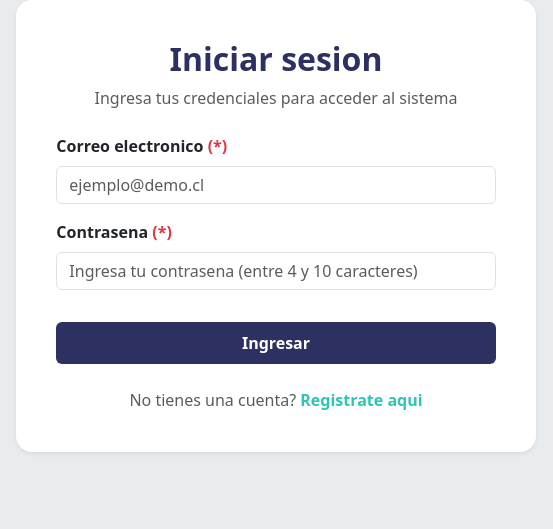
Test case: Prueba 13: Validacion de Login › rechaza una contrasena incorrecta
The image size is (553, 529).
Type "user@demo.cl" into the field with placeholder "ejemplo@demo.cl" at (276, 185), box [56,166,496,204]
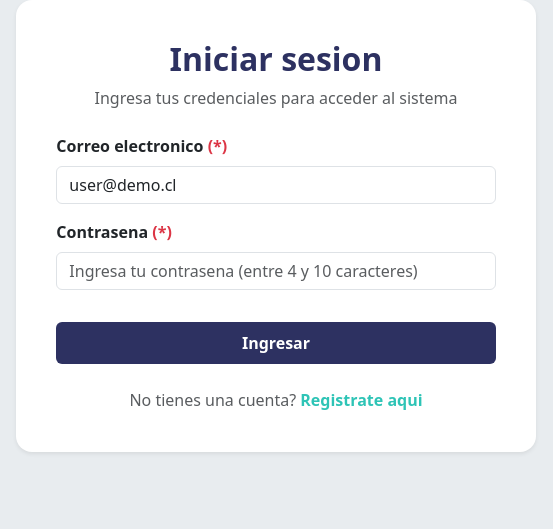
Type "incorrecta" into the password field with placeholder "Ingresa tu contrasena (entre 4 y 10 caracteres)" at (276, 271), box [56,252,496,290]
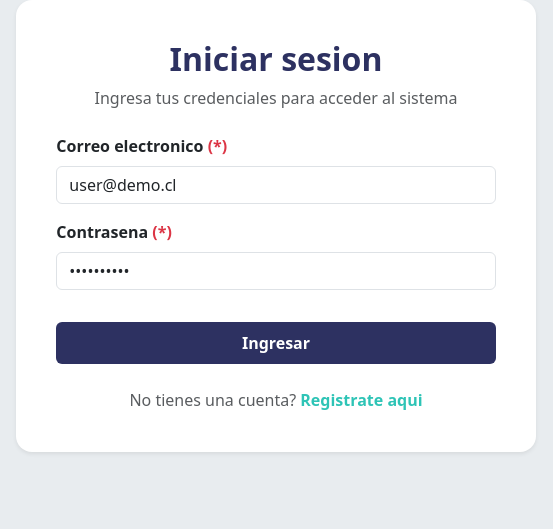
Click the button "Ingresar" at (276, 343), box [56,322,496,364]
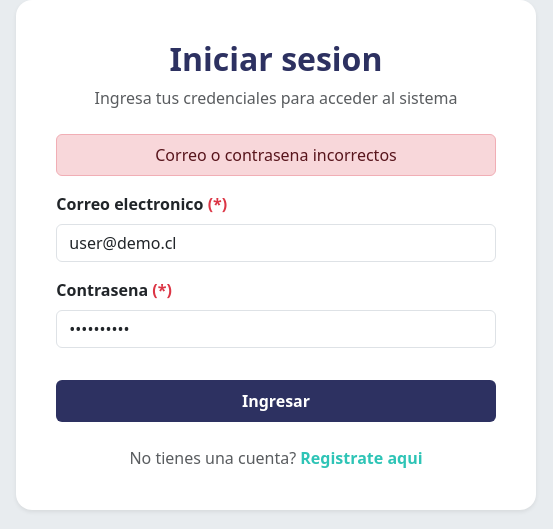
Expected: the message reads "Correo o contrasena incorrectos", [155,144,397,166]
